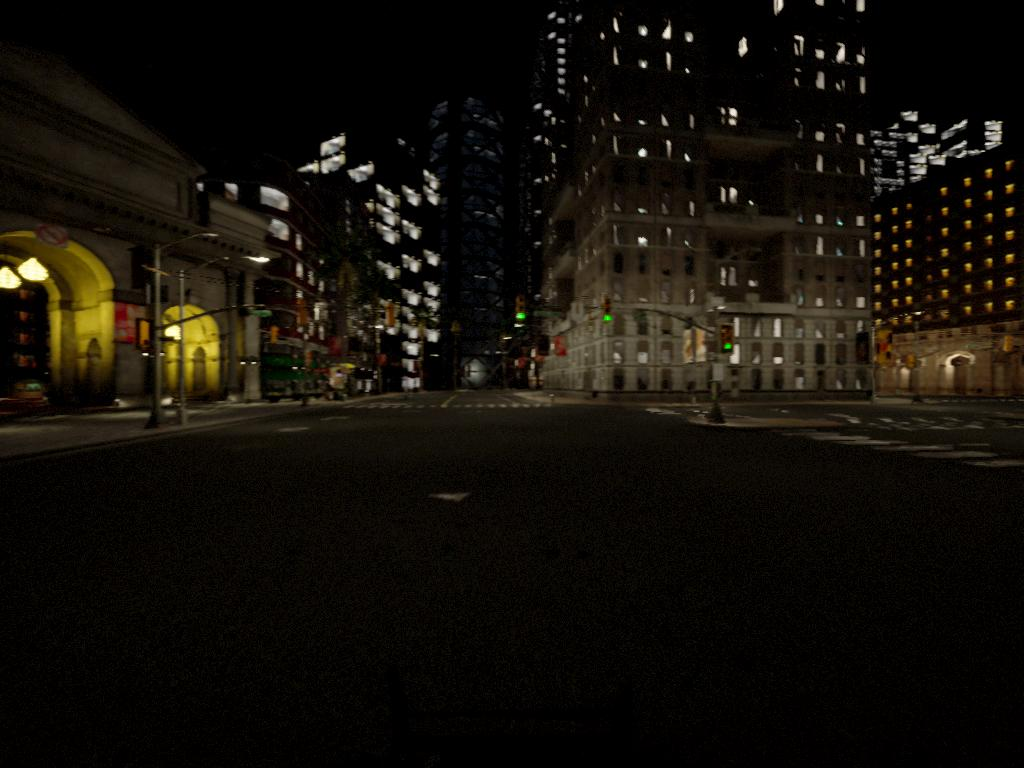traffic_light: (513, 298, 529, 328), (719, 326, 736, 353), (602, 303, 614, 326)
